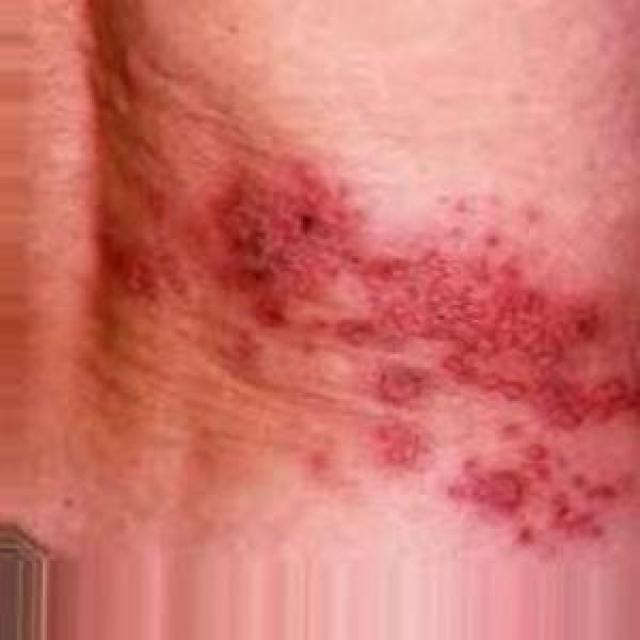Shingles: (214, 166, 640, 543)
